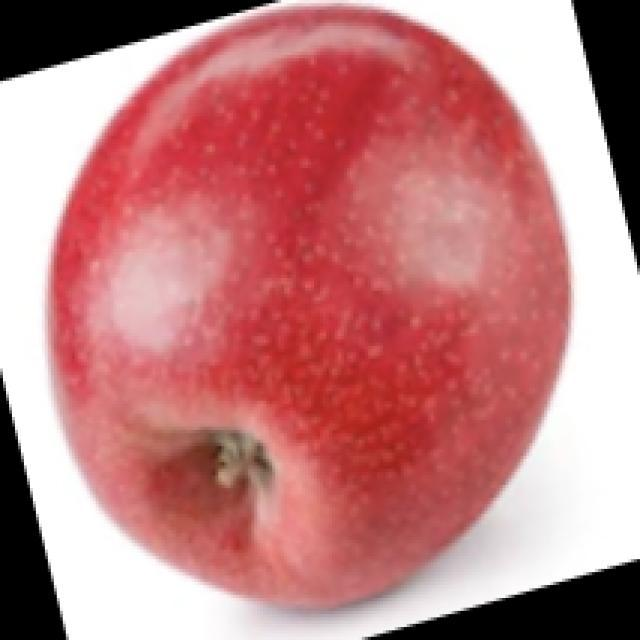Fresh Apple: (75, 15, 577, 595)
